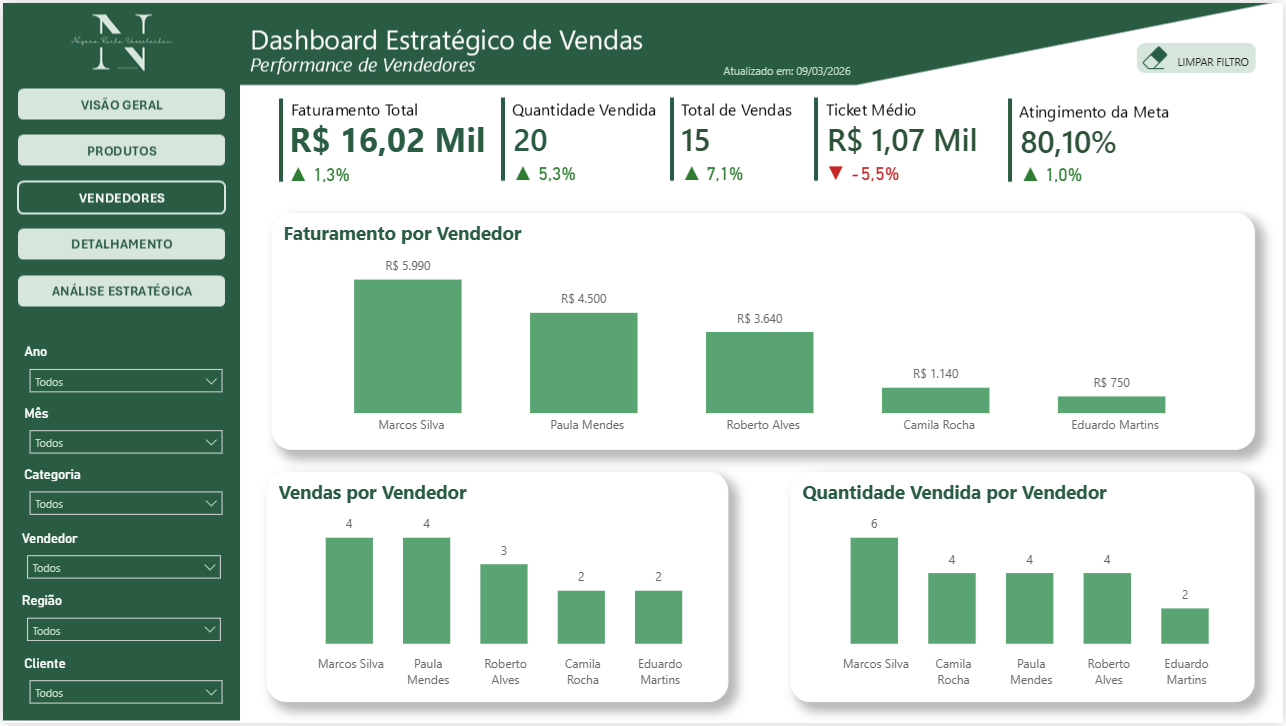

The page's visual inventory and layout, read from the dashboard file:
{"tool":"powerbi","page":{"name":"Análise de Vendedores","canvas":[1280,720],"ordinal":2},"visuals":[{"type":"columnChart","title":"Faturamento por Vendedor","fields":{"Y":["_medidas.faturamento_total"],"Category":["dim_vendedores.nome_vendedor"]},"box":[268.6,210,982.9,237.1],"z":0},{"type":"columnChart","title":"Vendas por Vendedor","fields":{"Category":["dim_vendedores.nome_vendedor"],"Y":["_medidas.total_vendas"]},"box":[264.3,468.6,461.4,230],"z":1000},{"type":"columnChart","title":"Quantidade Vendida por Vendedor","fields":{"Category":["dim_vendedores.nome_vendedor"],"Y":["_medidas.quantidade_vendida"]},"box":[787.1,468.6,464.3,230],"z":2000},{"type":"actionButton","box":[15.7,87.1,205.7,28.6],"z":3000},{"type":"actionButton","box":[15.7,132.9,205.7,28.6],"z":4000},{"type":"actionButton","box":[15.7,225.7,205.7,28.6],"z":5000},{"type":"textbox","box":[692.9,52.9,182.9,38.6],"z":6000},{"type":"slicer","title":"Ano","fields":{"Values":["dim_datas.ano"]},"box":[15.7,341.4,212.9,54.3],"z":7000},{"type":"slicer","title":"Mês","fields":{"Values":["dim_datas.mes_abreviado"]},"box":[15.7,402.9,212.9,52.9],"z":8000},{"type":"slicer","title":"Categoria","fields":{"Values":["dim_produtos.categoria"]},"box":[15.7,464.3,212.9,54.3],"z":9000},{"type":"slicer","title":"Vendedor","fields":{"Values":["dim_vendedores.nome_vendedor"]},"box":[14.3,527.1,214.3,54.3],"z":10000},{"type":"slicer","title":"Região","fields":{"Values":["dim_vendedores.regiao"]},"box":[14.3,590,214.3,54.3],"z":11000},{"type":"slicer","title":"Cliente","fields":{"Values":["dim_clientes.nome_clientes"]},"box":[15.7,652.9,212.9,54.3],"z":12000},{"type":"actionButton","box":[15.7,272.9,205.7,28.6],"z":13000},{"type":"card","title":"Faturamento Total","fields":{"Values":["_medidas.faturamento_total"]},"box":[257.1,104.3,254.3,65.7],"z":14000},{"type":"card","title":"Qtd Vendida","fields":{"Values":["_medidas.quantidade_vendida"]},"box":[475.6,103.7,105,66.1],"z":15000},{"type":"card","title":"Total de Vendas","fields":{"Values":["_medidas.total_vendas"]},"box":[641.4,103.7,103.7,66.1],"z":16000},{"type":"card","title":"Ticket Médio","fields":{"Values":["_medidas.ticket_medio"]},"box":[776.2,103.7,246.2,66.1],"z":17000},{"type":"card","title":"Faturamento Total","fields":{"Values":["_medidas.tendência_faturamento"]},"box":[271.4,151.4,90,41.4],"z":18000},{"type":"card","title":"Faturamento Total","fields":{"Values":["_medidas.7_tendência_qtd_vendida"]},"box":[496.3,150.3,90.7,41.5],"z":19000},{"type":"card","title":"Faturamento Total","fields":{"Values":["_medidas.7_tendência_total_vendas"]},"box":[664.8,150.3,89.4,41.5],"z":20000},{"type":"card","title":"Faturamento Total","fields":{"Values":["_medidas.7_tendência_ticket_medio"]},"box":[815.1,150.3,89.4,41.5],"z":21000},{"type":"card","title":"Ticket Médio","fields":{"Values":["_medidas.1_atingimento_meta"]},"box":[990,106.3,151.6,64.8],"z":22000},{"type":"card","title":"Faturamento Total","fields":{"Values":["_medidas.3_2_tendencia_atingimento_meta"]},"box":[1004.3,151.6,89.4,41.5],"z":23000},{"type":"shape","box":[1133.6,40,119.1,30],"z":24000},{"type":"textbox","box":[1165.5,43.6,90,28.2],"z":25000},{"type":"image","box":[1130,40.9,42.7,27.3],"z":26000},{"type":"actionButton","box":[1134,40,121,30],"z":27000}]}

Visuals, with their boxes in screenshot pixels (x1, y1, x2, y2), scaled from the page's 1280x720 canvas onto the 1286x726 screenshot:
"Faturamento por Vendedor" columnChart: [270, 212, 1257, 451]
"Vendas por Vendedor" columnChart: [266, 473, 729, 704]
"Quantidade Vendida por Vendedor" columnChart: [791, 473, 1257, 704]
actionButton: [16, 88, 222, 117]
actionButton: [16, 134, 222, 163]
actionButton: [16, 228, 222, 256]
textbox: [696, 53, 880, 92]
"Ano" slicer: [16, 344, 230, 399]
"Mês" slicer: [16, 406, 230, 460]
"Categoria" slicer: [16, 468, 230, 523]
"Vendedor" slicer: [14, 531, 230, 586]
"Região" slicer: [14, 595, 230, 650]
"Cliente" slicer: [16, 658, 230, 713]
actionButton: [16, 275, 222, 304]
"Faturamento Total" card: [258, 105, 514, 171]
"Qtd Vendida" card: [478, 105, 583, 171]
"Total de Vendas" card: [644, 105, 749, 171]
"Ticket Médio" card: [780, 105, 1027, 171]
"Faturamento Total" card: [273, 153, 363, 194]
"Faturamento Total" card: [499, 152, 590, 193]
"Faturamento Total" card: [668, 152, 758, 193]
"Faturamento Total" card: [819, 152, 909, 193]
"Ticket Médio" card: [995, 107, 1147, 173]
"Faturamento Total" card: [1009, 153, 1099, 195]
shape: [1139, 40, 1259, 71]
textbox: [1171, 44, 1261, 72]
image: [1135, 41, 1178, 69]
actionButton: [1139, 40, 1261, 71]
